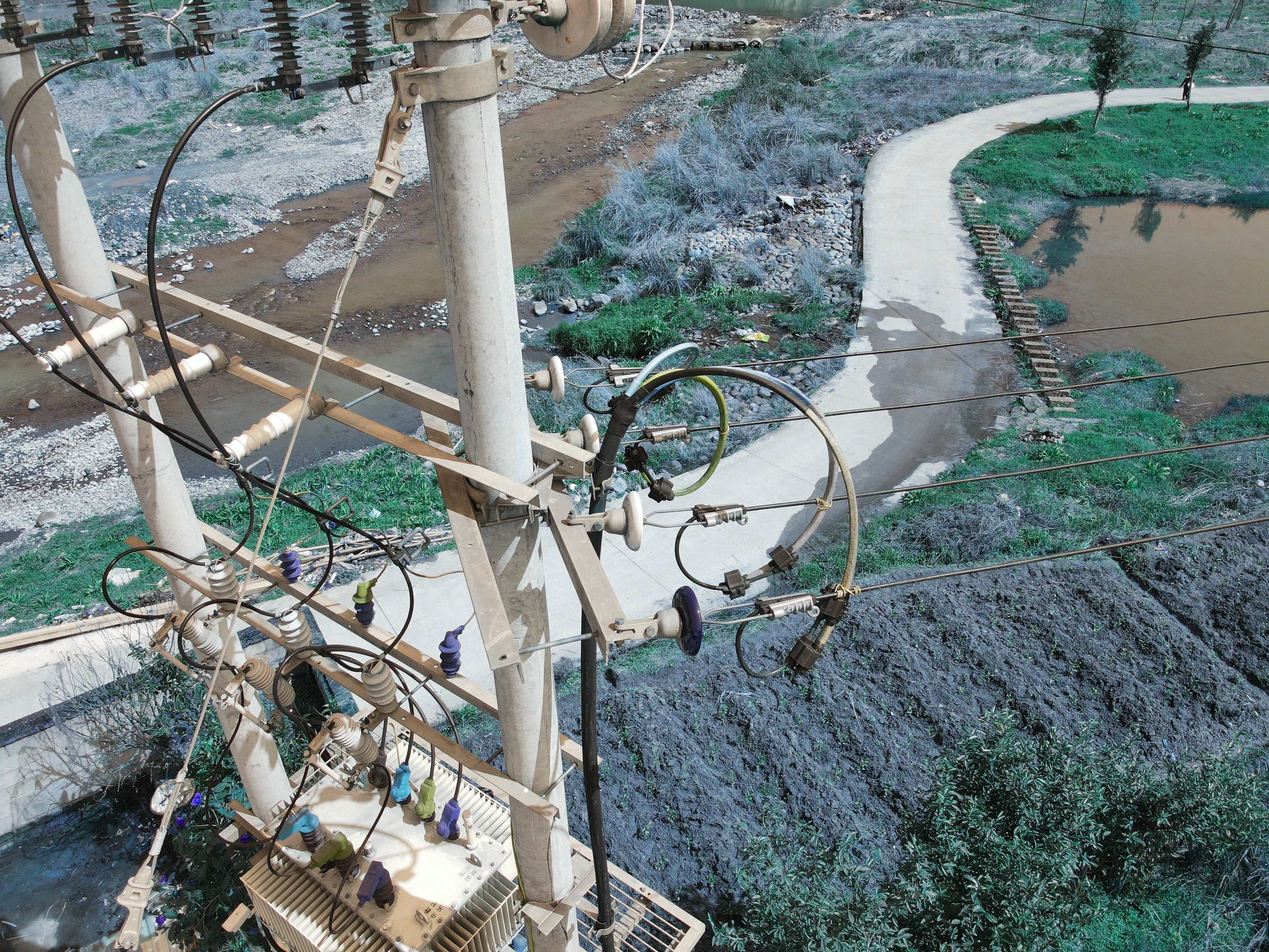severe_soiling_no_discharge_whole: (529, 3, 640, 61), (604, 489, 646, 553), (533, 354, 566, 404), (566, 414, 600, 450)
